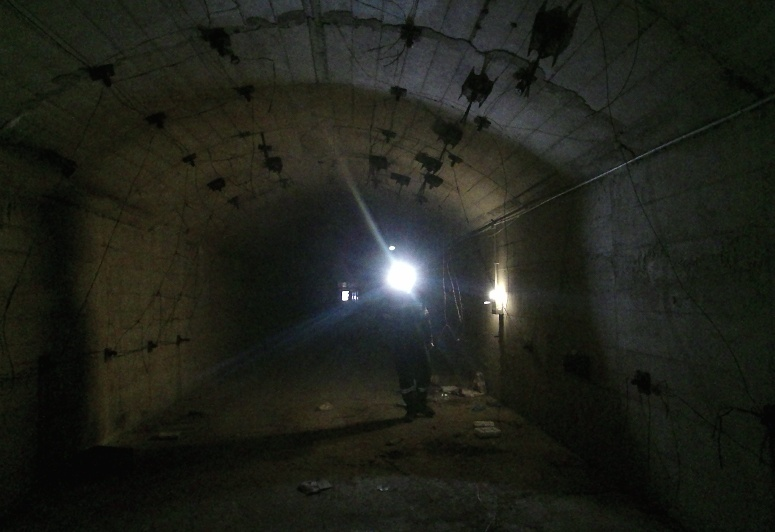person: (374, 274, 443, 428)
